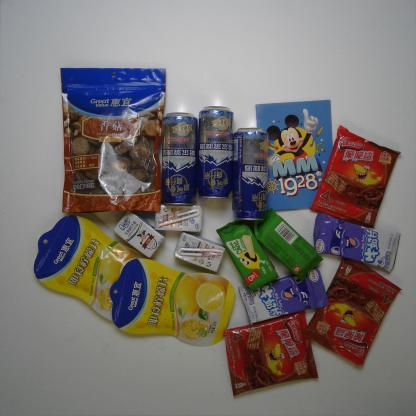Alcohol: (229, 124, 274, 225), (157, 107, 200, 209), (193, 105, 237, 204)
Candy: (236, 260, 333, 326), (307, 210, 405, 272)
Dessert: (300, 252, 404, 369), (307, 122, 403, 231), (222, 306, 322, 397), (250, 208, 324, 283), (217, 215, 283, 296)
Dried Food: (55, 64, 171, 215)
Dried Fruit: (30, 212, 160, 327), (104, 255, 238, 348)
Milk: (109, 206, 166, 259), (171, 231, 229, 274), (153, 196, 203, 233)
Stationery: (252, 97, 343, 215)
